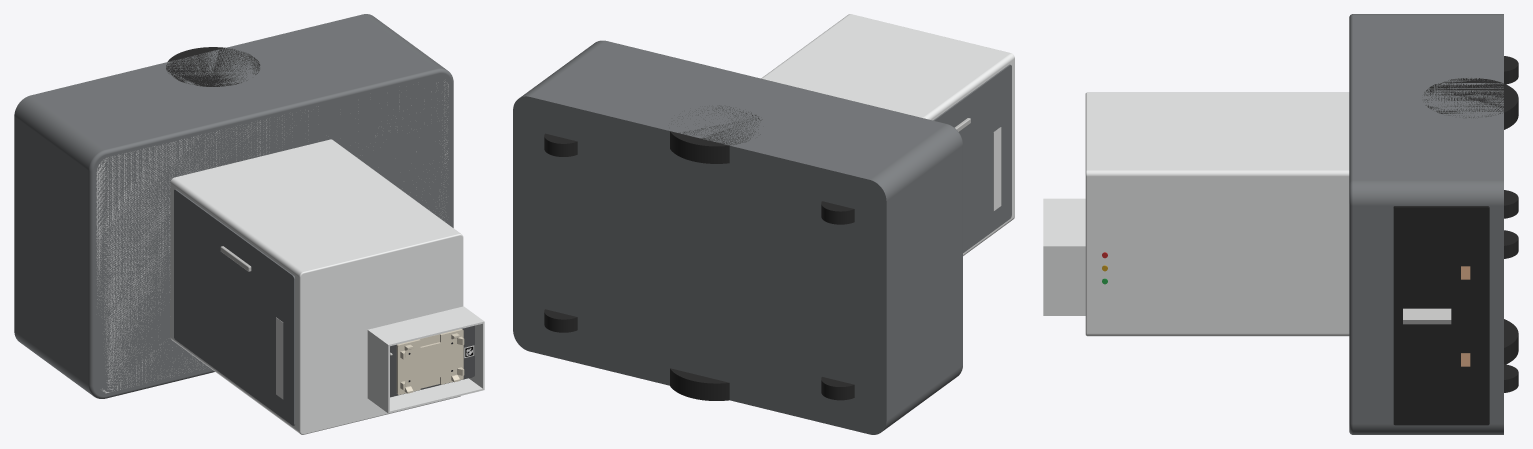
The model's file is Cell01__Robots__R03_SampleAMR__PlanarX__PlanarY__BaseLink.glb.
3 renders of one model, left to right at view 1: azimuth 30°, elevation 25°; view 2: azimuth 150°, elevation 25°; view 3: azimuth 270°, elevation 25°, orthographic. The views are drawn at different scales.
Parts seen in each view (by area): view 1: /World/Cell01/Robots/R03_SampleAMR/PlanarX/PlanarY/BaseLink/ (×6); view 2: /World/Cell01/Robots/R03_SampleAMR/PlanarX/PlanarY/BaseLink/ (×4); view 3: /World/Cell01/Robots/R03_SampleAMR/PlanarX/PlanarY/BaseLink/ (×4).
Boxes of the visible parts, x1,y1,x2,y2 form: /World/Cell01/Robots/R03_SampleAMR/PlanarX/PlanarY/BaseLink/ (×6): [14, 14, 484, 434]; /World/Cell01/Robots/R03_SampleAMR/PlanarX/PlanarY/BaseLink/ (×4): [513, 14, 1014, 434]; /World/Cell01/Robots/R03_SampleAMR/PlanarX/PlanarY/BaseLink/ (×4): [1043, 14, 1518, 434].
Bounding box in the file's own units: 0.915 × 0.58 × 0.988.
13 materials, 1 textured.
